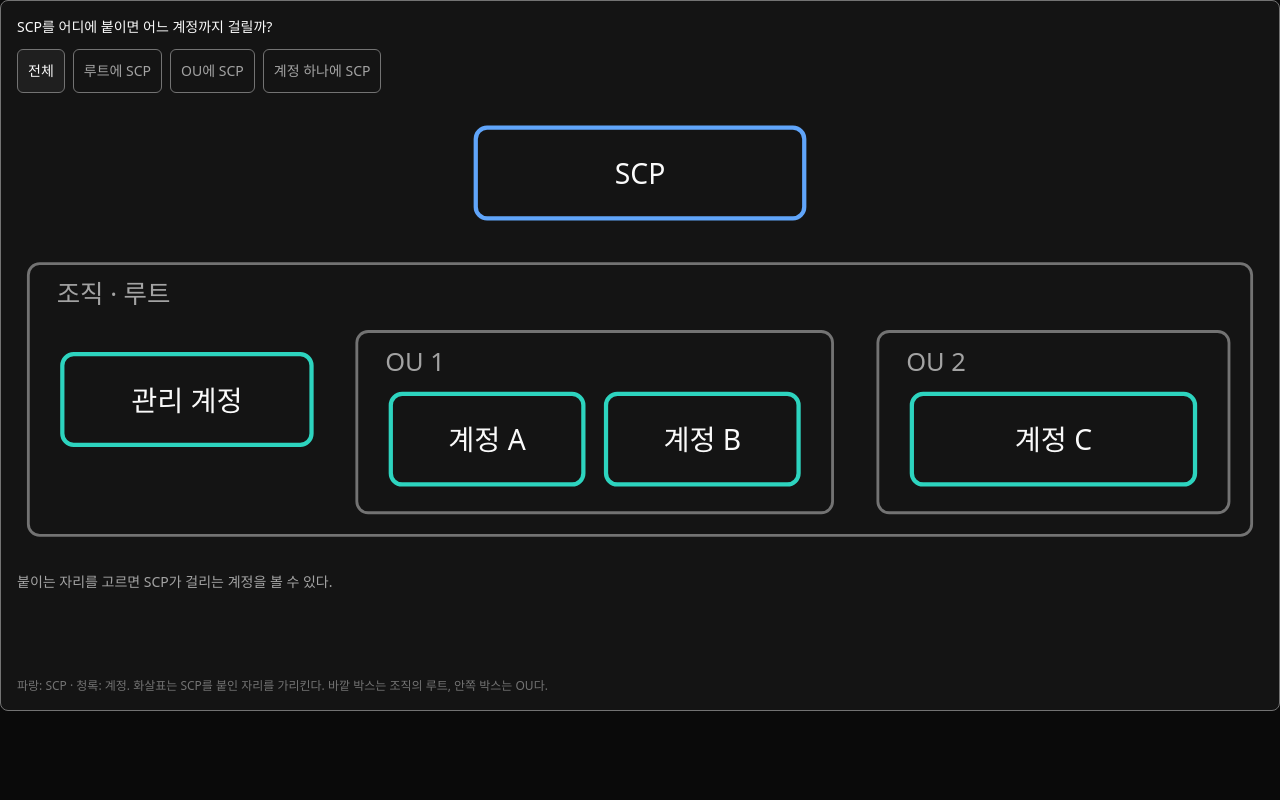
Test: OrgScpScopeDiagram › 붙이는 자리를 바꾸면 이전 경로·곁말이 사라지고 전체를 누르면 초기 상태로 돌아온다
Click the button "루트에 SCP".
click(117, 71)  # box [73, 49, 162, 93]
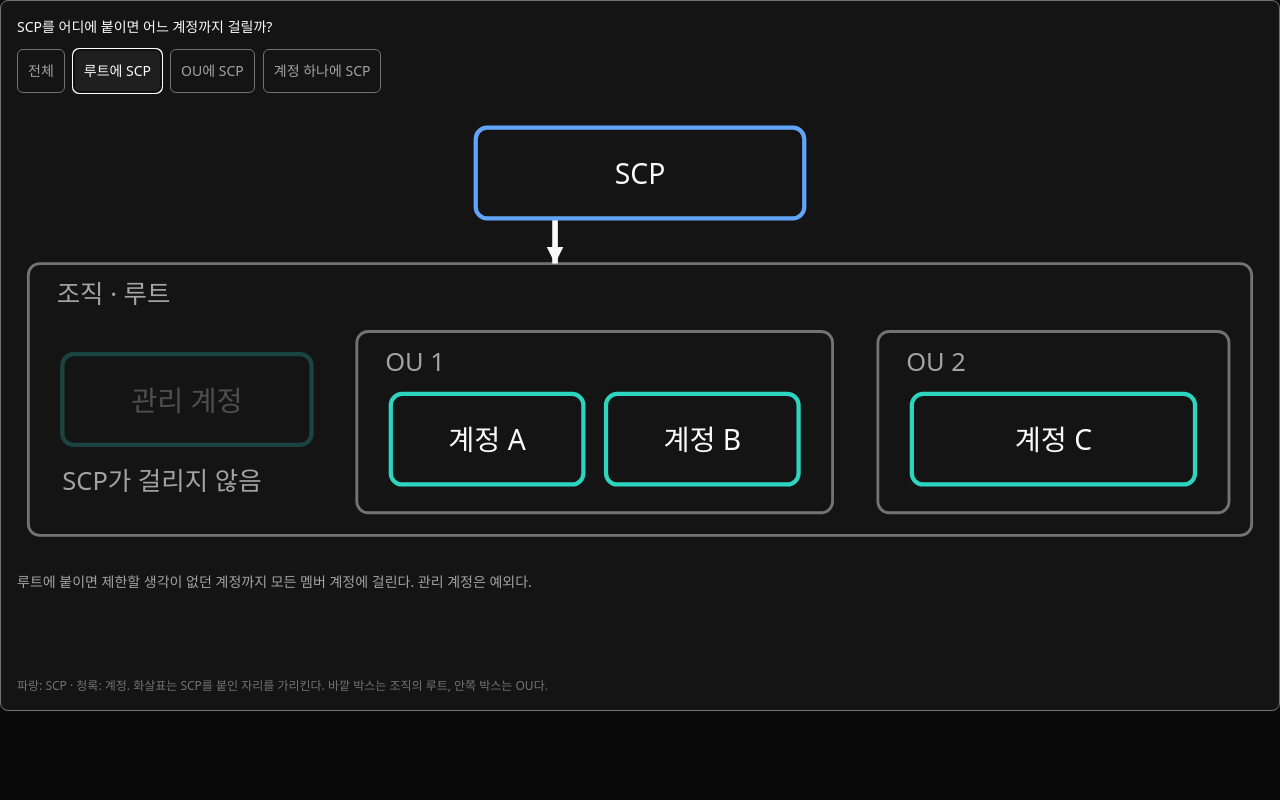
Click the button "OU에 SCP".
click(212, 71)  # box [170, 49, 255, 93]
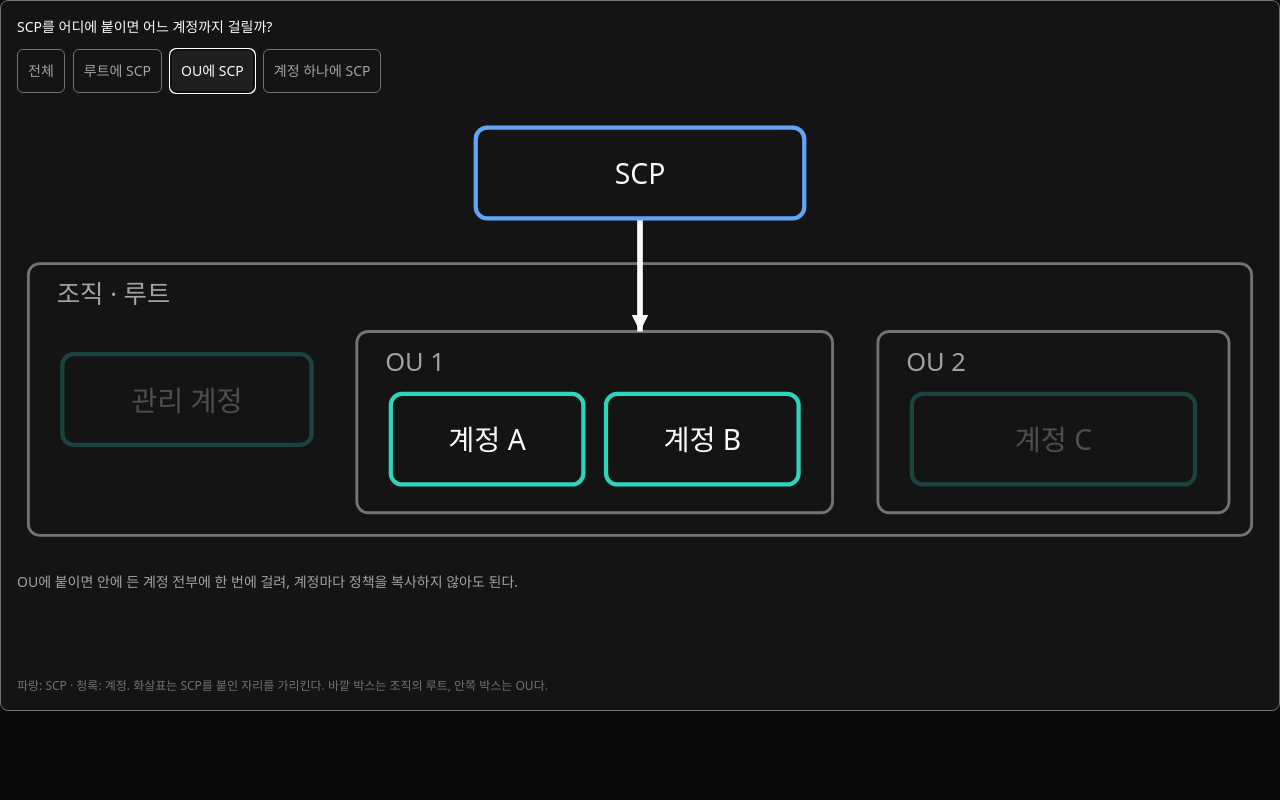
Click the button "계정 하나에 SCP".
click(322, 71)  # box [263, 49, 382, 93]
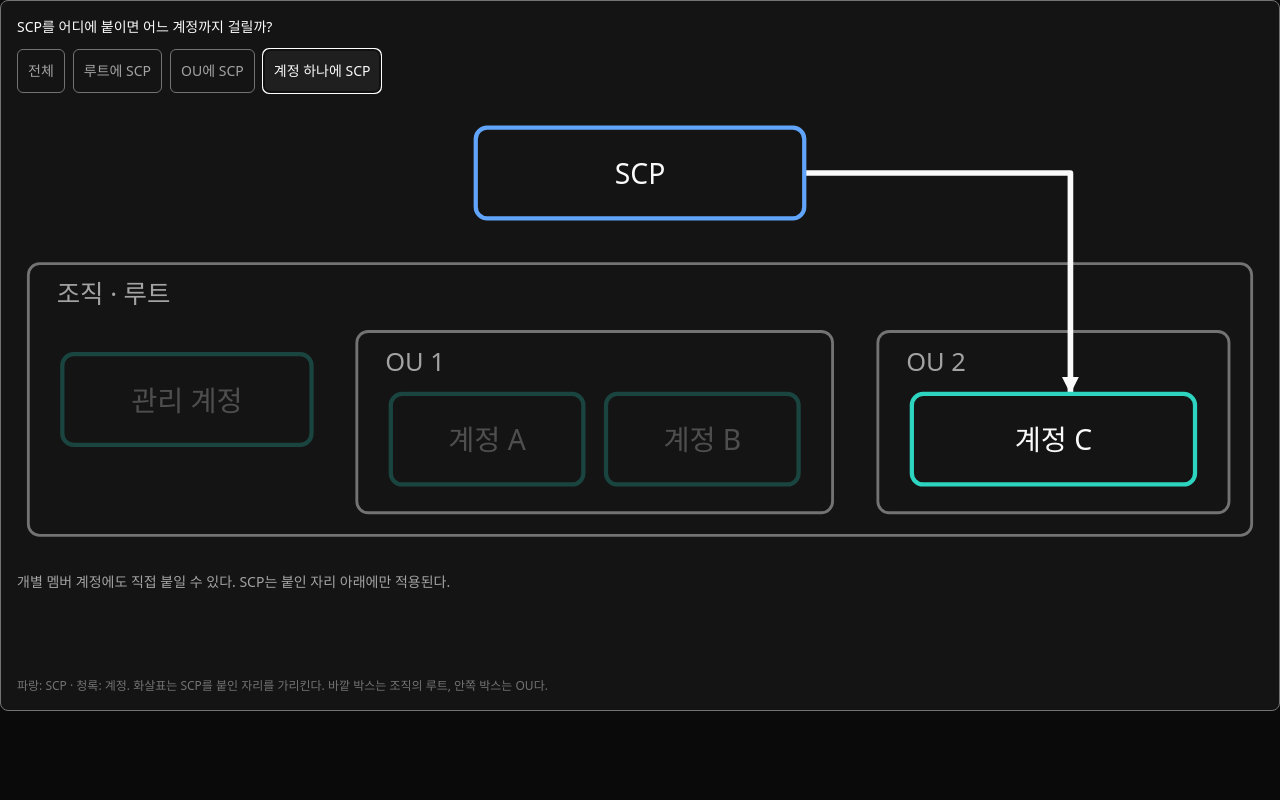
Click the button "루트에 SCP".
click(117, 71)  # box [73, 49, 162, 93]
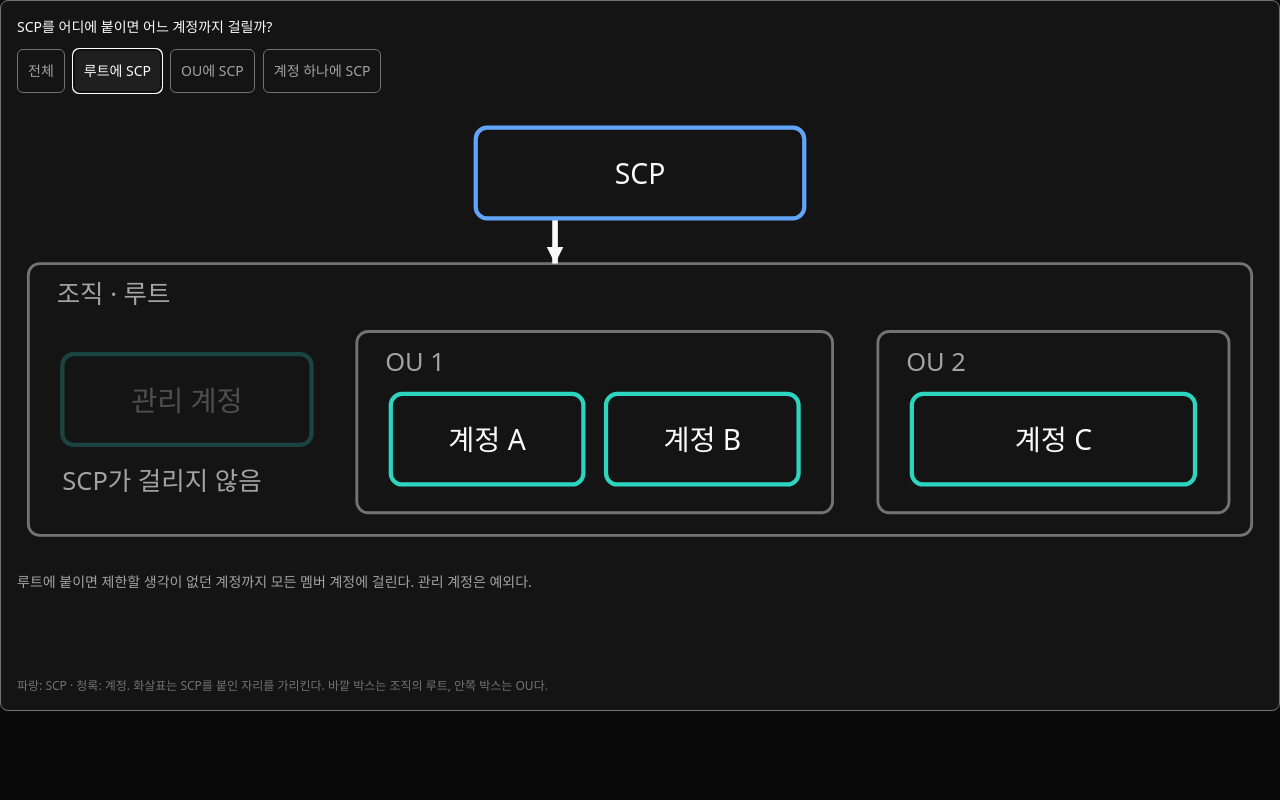
Click the button "전체".
click(41, 71)  # box [17, 49, 65, 93]
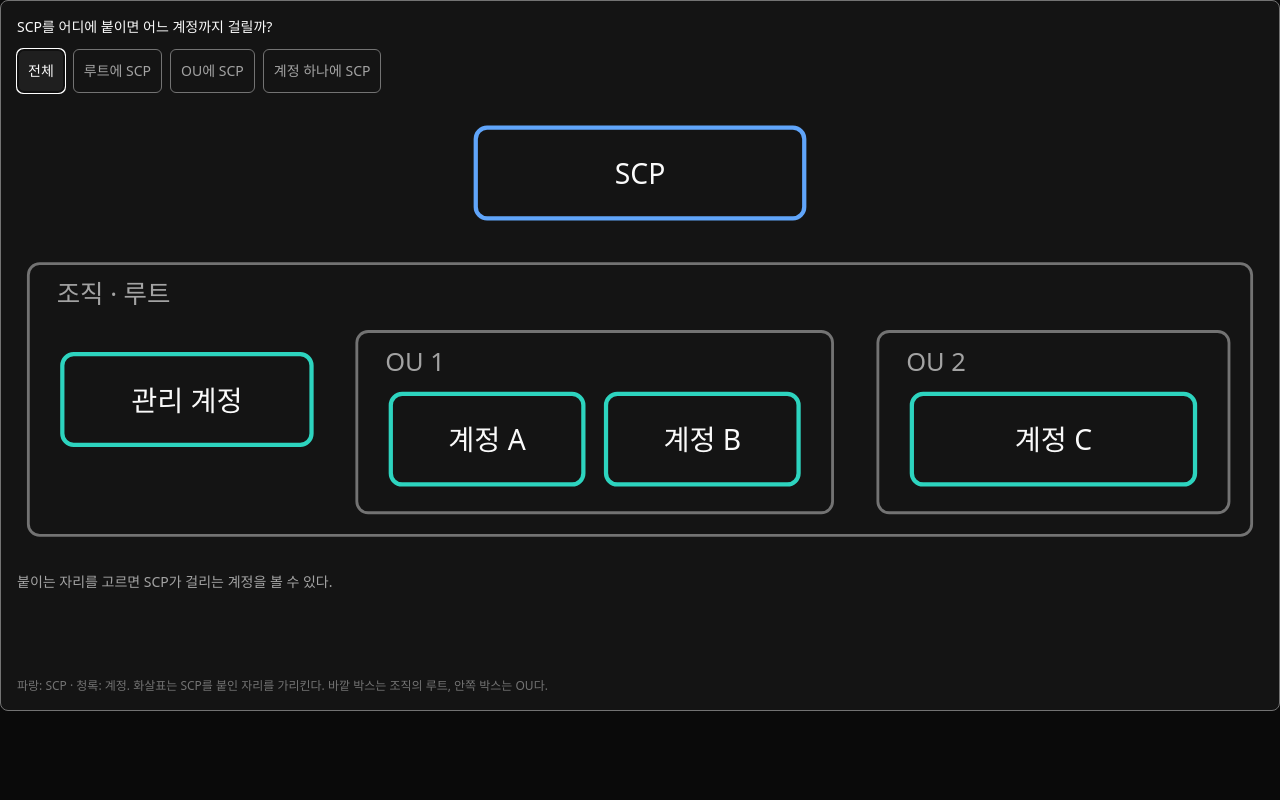
Check: the text "붙이는 자리를 고르면 SCP가 걸리는 계정을 볼 수 있다." is shown, box [17, 572, 332, 591]
